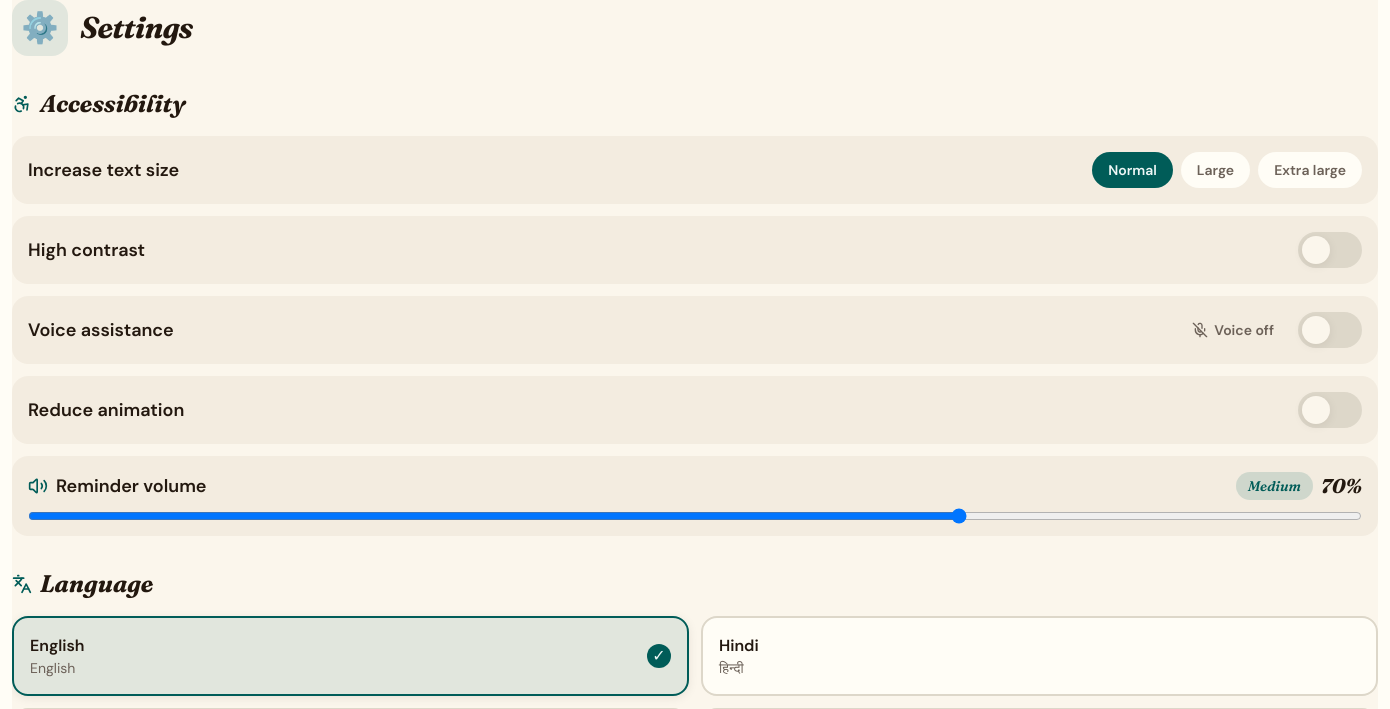
it: SettingsPage › shows a voice on/off badge that changes with the voice assistance setting
The width and height of the screenshot is (1390, 709).
Expected: the text "Voice off" is shown, [1192, 321, 1274, 339]
Click the switch with test id "settings.voice.toggle". click: (1330, 330)
box: [1298, 312, 1362, 348]
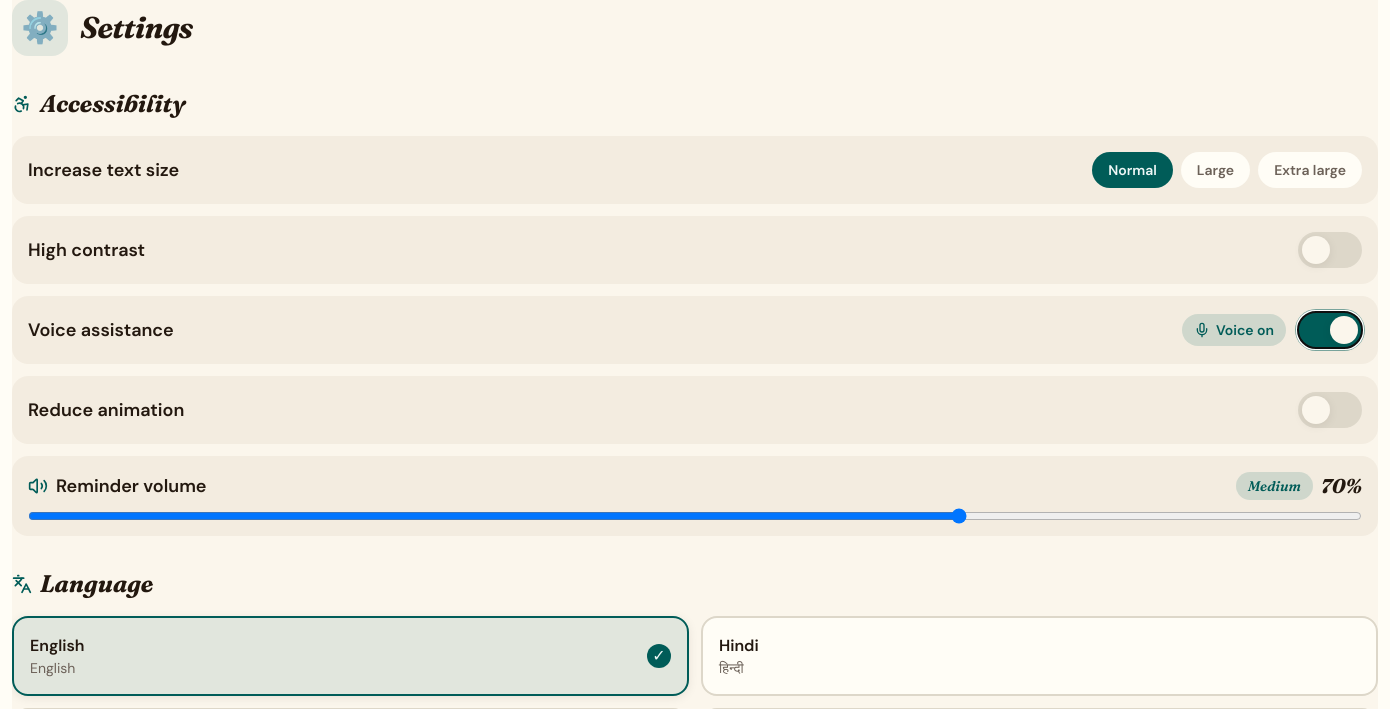
Now the text "Voice on" is shown, box [1182, 314, 1286, 346]
Now the text "Voice off" is gone
